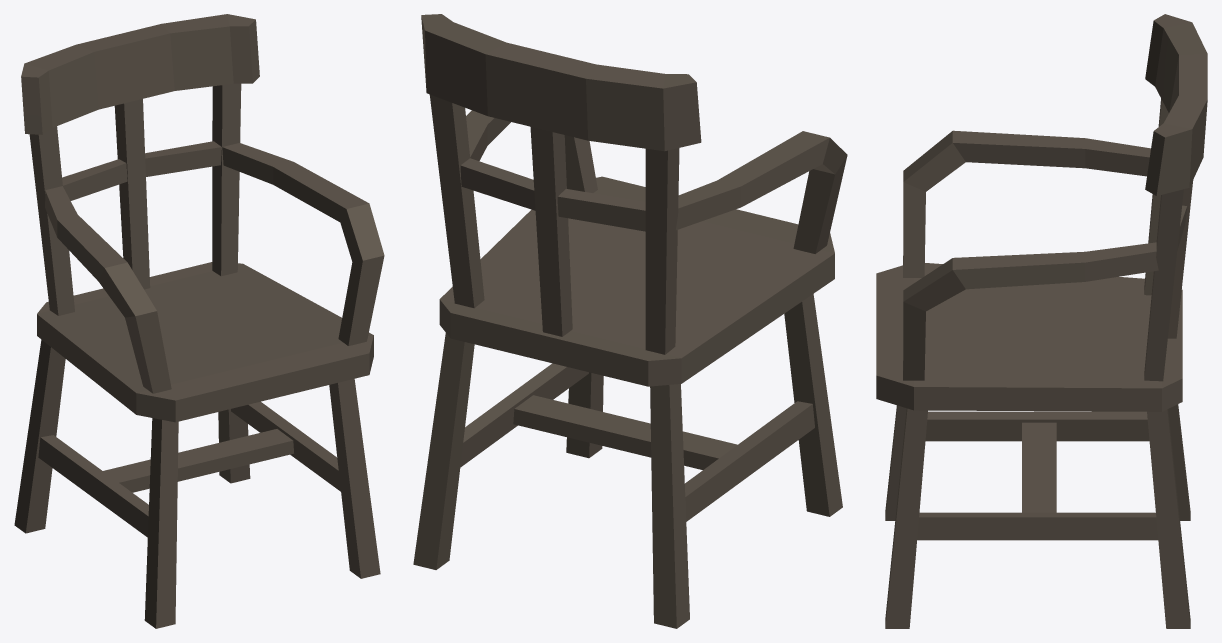
File: chaise.obj
3 renders of one model, left to right at view 1: azimuth 30°, elevation 25°; view 2: azimuth 150°, elevation 25°; view 3: azimuth 270°, elevation 25°, orthographic. The views are drawn at different scales.
Visible parts, largest first — view 1: SM_Prop_Chair_01_327_SM_Prop_Chair_01; view 2: SM_Prop_Chair_01_327_SM_Prop_Chair_01; view 3: SM_Prop_Chair_01_327_SM_Prop_Chair_01.
Boxes of the visible parts, bbox=[...] form: SM_Prop_Chair_01_327_SM_Prop_Chair_01: bbox=[14, 14, 384, 628]; SM_Prop_Chair_01_327_SM_Prop_Chair_01: bbox=[413, 14, 847, 628]; SM_Prop_Chair_01_327_SM_Prop_Chair_01: bbox=[876, 14, 1207, 628].
Size of the model in its own units: 0.6449 by 1.07 by 0.6487.
